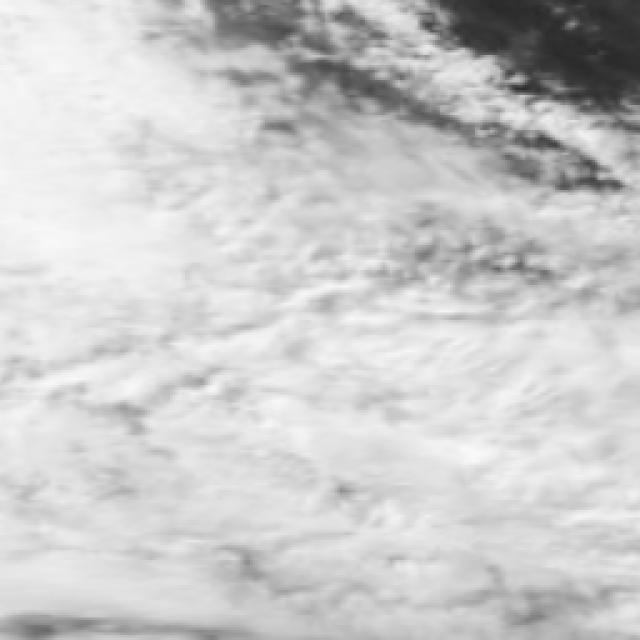CB: (0, 192, 211, 436), (412, 281, 640, 493), (203, 193, 393, 447), (194, 428, 398, 635), (405, 465, 640, 637), (0, 436, 215, 614), (0, 0, 173, 201)
